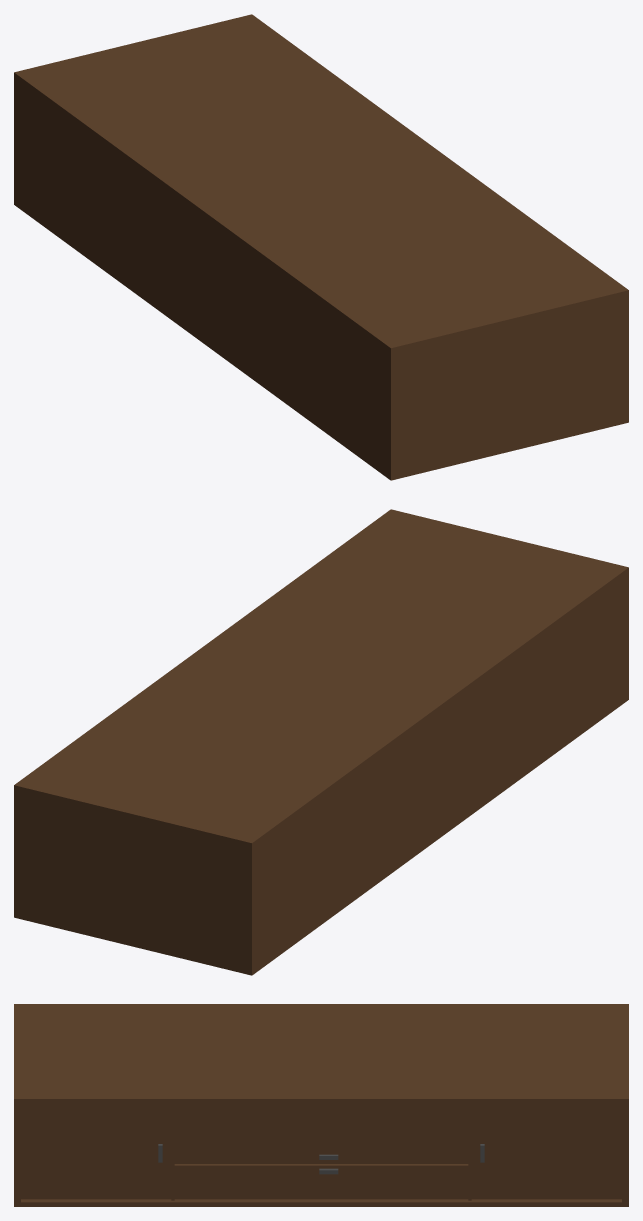
Rendered from cupboard.4.obj.
3 renders of one model, top to bottom at view 1: azimuth 30°, elevation 25°; view 2: azimuth 150°, elevation 25°; view 3: azimuth 270°, elevation 25°, orthographic. The views are drawn at different scales.
Parts seen in each view (by area): view 1: Cube.039; view 2: Cube.039; view 3: Cube.039.
Boxes of the visible parts, x1,y1,x2,y2 form: Cube.039: [14, 14, 628, 480]; Cube.039: [14, 509, 628, 975]; Cube.039: [14, 1004, 628, 1206].
Bounding box in the file's own units: 4.95 × 2.63 × 13.57.
